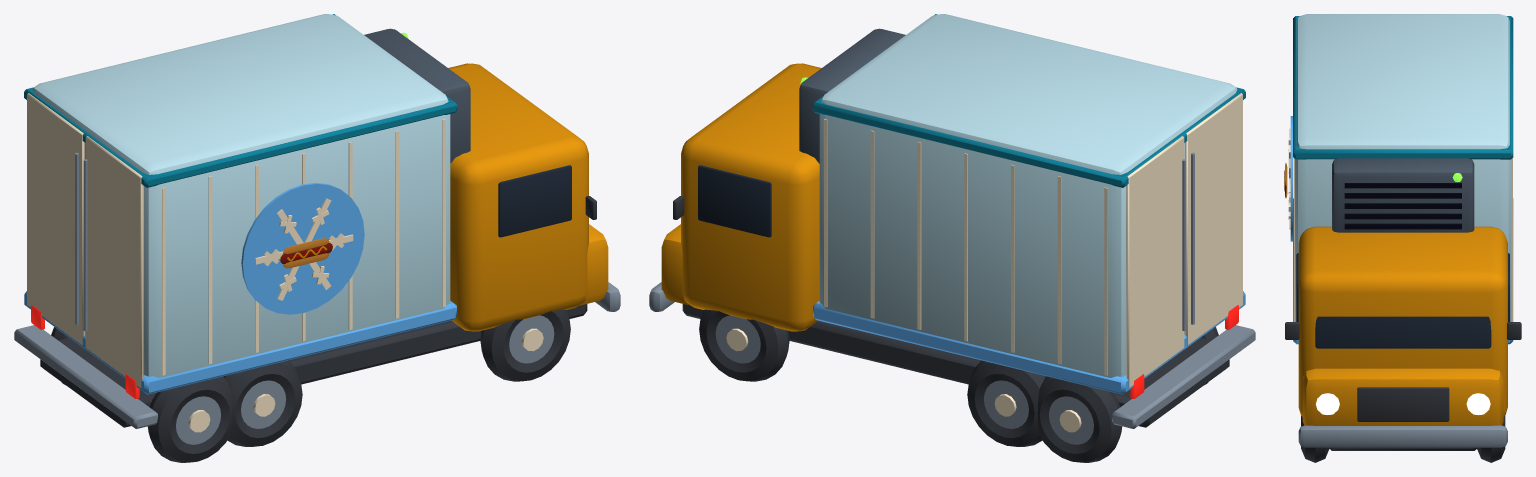
Rendered from FridgeTruck.fbx.
The picture shows the model from 3 angles, left to right: view 1: azimuth 30°, elevation 25°; view 2: azimuth 150°, elevation 25°; view 3: azimuth 270°, elevation 25°; orthographic projection. The views are drawn at different scales.
Parts seen in each view (by area): view 1: FridgeTruck; view 2: FridgeTruck; view 3: FridgeTruck.
Boxes of the visible parts, bbox=[...] form: FridgeTruck: bbox=[14, 14, 620, 462]; FridgeTruck: bbox=[649, 14, 1255, 462]; FridgeTruck: bbox=[1284, 14, 1521, 462].
Bounding box in the file's own units: 12.08 × 7.38 × 5.66.
